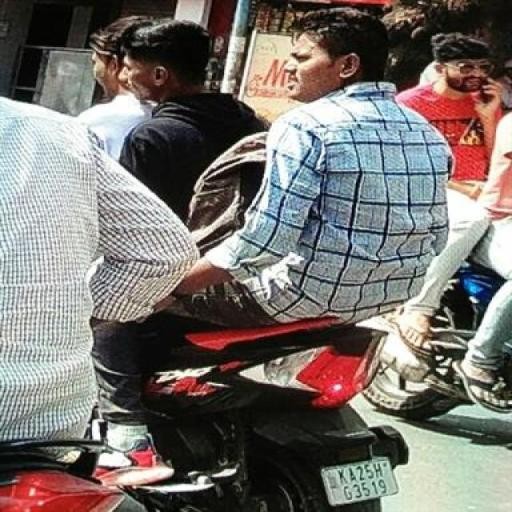tripple riding: (51, 2, 447, 334)
